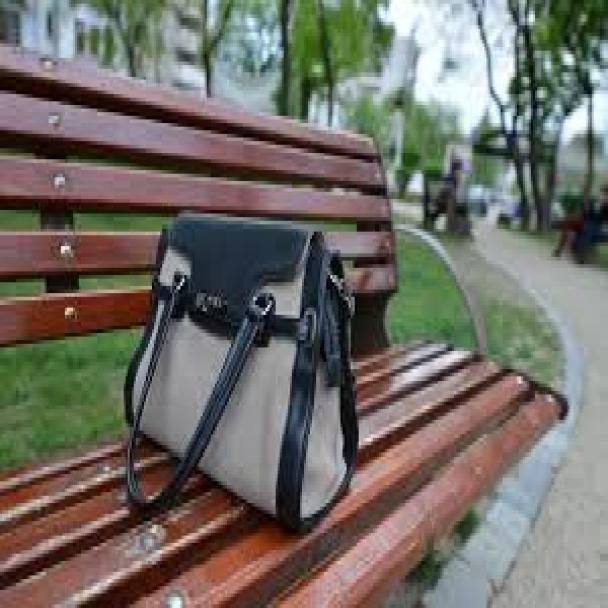Tas: (122, 217, 360, 520)
